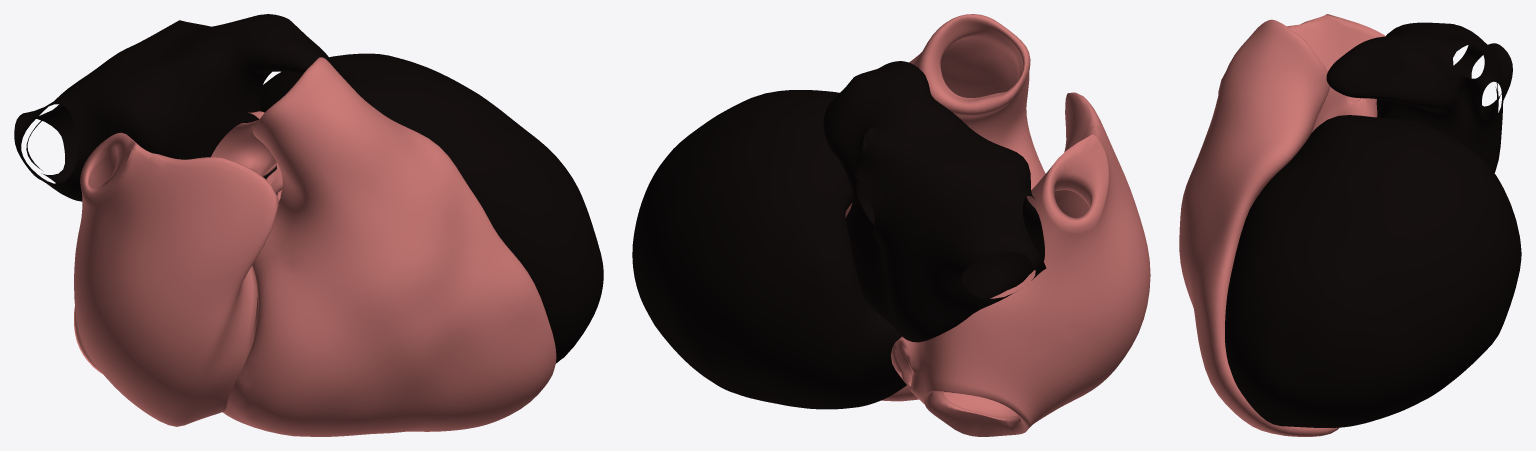
Rendered from 3d-vh-f-heart.glb.
3 renders of one model, left to right at view 1: azimuth 30°, elevation 25°; view 2: azimuth 150°, elevation 25°; view 3: azimuth 270°, elevation 25°, orthographic. The views are drawn at different scales.
Visible parts, largest first — view 1: VH_F_right_ventricle, VH_F_right_cardiac_atrium, VH_F_left_ventricle, VH_F_left_cardiac_atrium, VH_F_aortic_valve; view 2: VH_F_left_ventricle, VH_F_right_cardiac_atrium, VH_F_left_cardiac_atrium, VH_F_right_ventricle; view 3: VH_F_left_ventricle, VH_F_right_ventricle, VH_F_left_cardiac_atrium, VH_F_right_cardiac_atrium, VH_F_aortic_valve.
Boxes of the visible parts, left/top/right/bottom form: VH_F_right_ventricle: left=222, top=57, right=556, bottom=436; VH_F_right_cardiac_atrium: left=74, top=132, right=278, bottom=426; VH_F_left_ventricle: left=259, top=53, right=603, bottom=363; VH_F_left_cardiac_atrium: left=14, top=14, right=335, bottom=201; VH_F_aortic_valve: left=211, top=111, right=282, bottom=202; VH_F_left_ventricle: left=632, top=90, right=906, bottom=409; VH_F_right_cardiac_atrium: left=890, top=92, right=1150, bottom=436; VH_F_left_cardiac_atrium: left=823, top=61, right=1046, bottom=342; VH_F_right_ventricle: left=881, top=14, right=1045, bottom=401; VH_F_left_ventricle: left=1225, top=115, right=1521, bottom=427; VH_F_right_ventricle: left=1179, top=19, right=1339, bottom=436; VH_F_left_cardiac_atrium: left=1326, top=22, right=1512, bottom=172; VH_F_right_cardiac_atrium: left=1218, top=14, right=1385, bottom=101; VH_F_aortic_valve: left=1312, top=87, right=1377, bottom=132.
Size of the model in its own units: 0.1425 by 0.11 by 0.1015.
